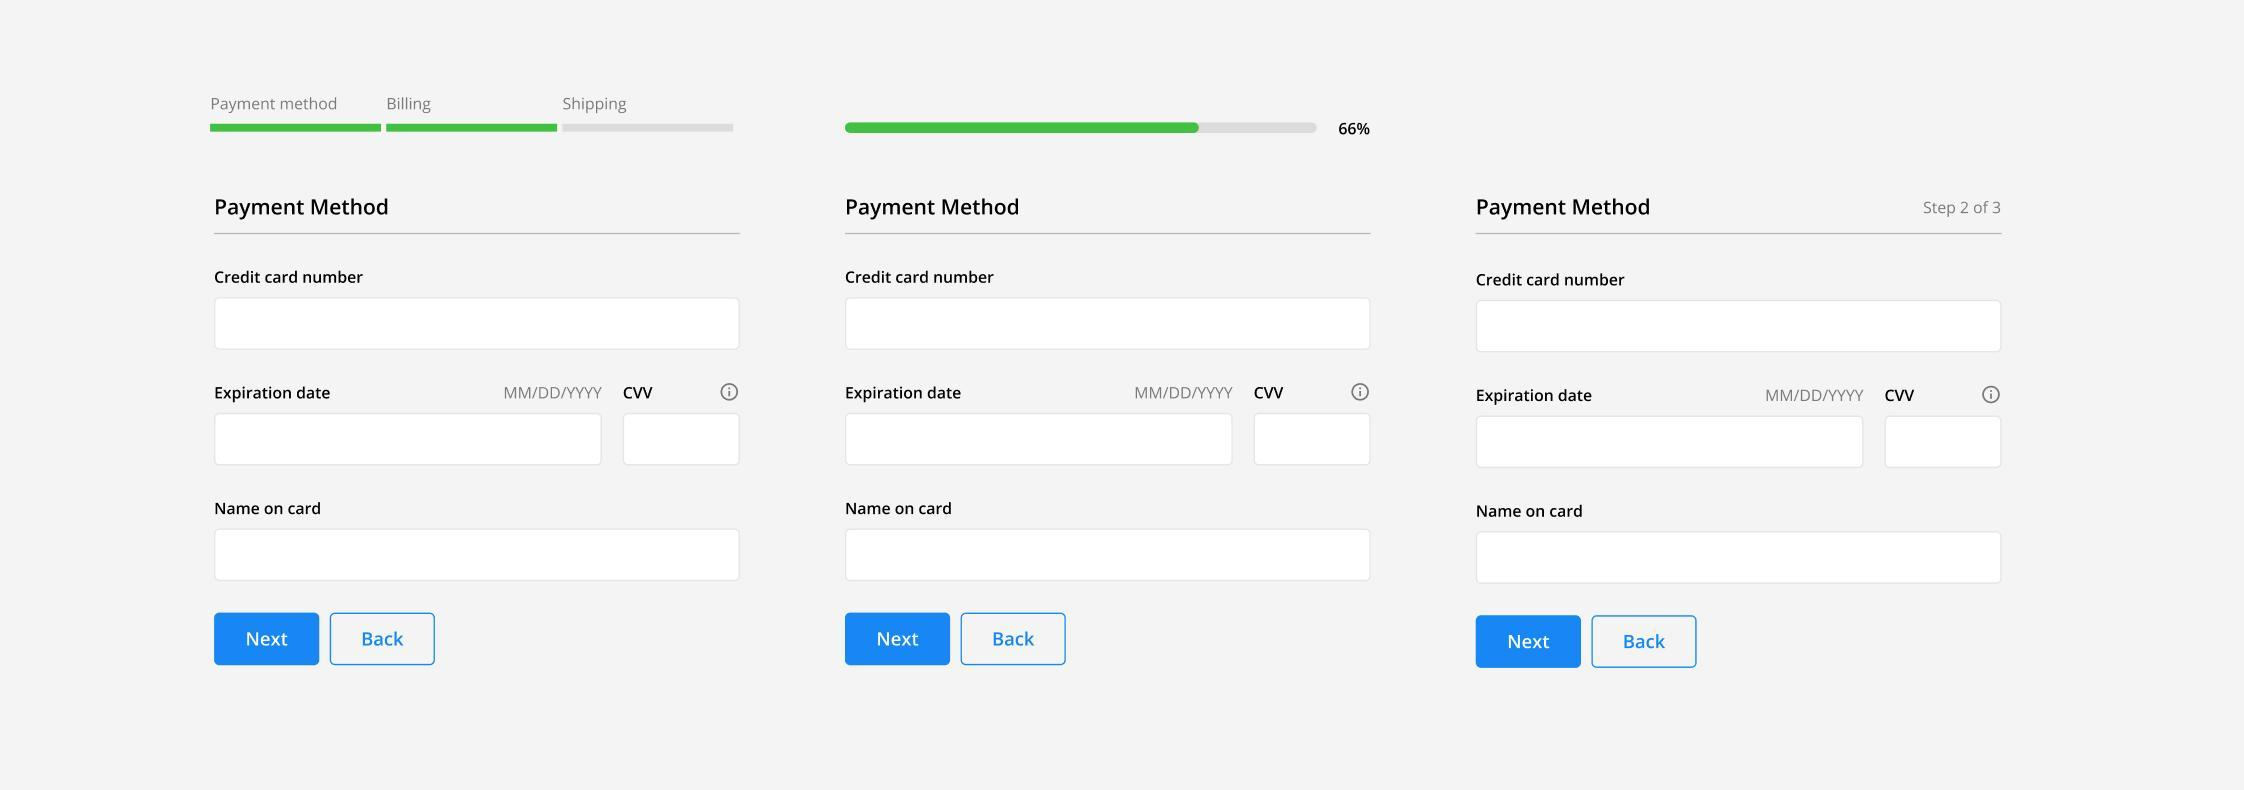button: (1473, 613, 1584, 673), (213, 613, 322, 670), (1590, 615, 1700, 671), (959, 613, 1069, 668), (328, 613, 438, 668), (844, 613, 953, 665)
input: (209, 293, 744, 356), (841, 293, 1372, 353), (1473, 298, 2006, 356), (1473, 530, 2004, 588), (215, 527, 744, 584), (844, 530, 1375, 582), (210, 411, 607, 471), (843, 411, 1238, 469), (1474, 415, 1868, 469), (624, 409, 744, 469), (1252, 409, 1372, 469), (1883, 414, 2005, 472)
label: (1471, 187, 1653, 220), (205, 193, 399, 219), (844, 195, 1028, 220), (844, 266, 997, 291), (210, 384, 335, 406), (213, 268, 366, 286), (210, 497, 325, 521), (843, 384, 965, 406), (1473, 499, 1589, 521), (1475, 273, 1626, 288), (1475, 389, 1593, 406), (846, 502, 955, 518), (1879, 388, 1918, 405), (621, 384, 655, 399), (1249, 385, 1287, 399)
